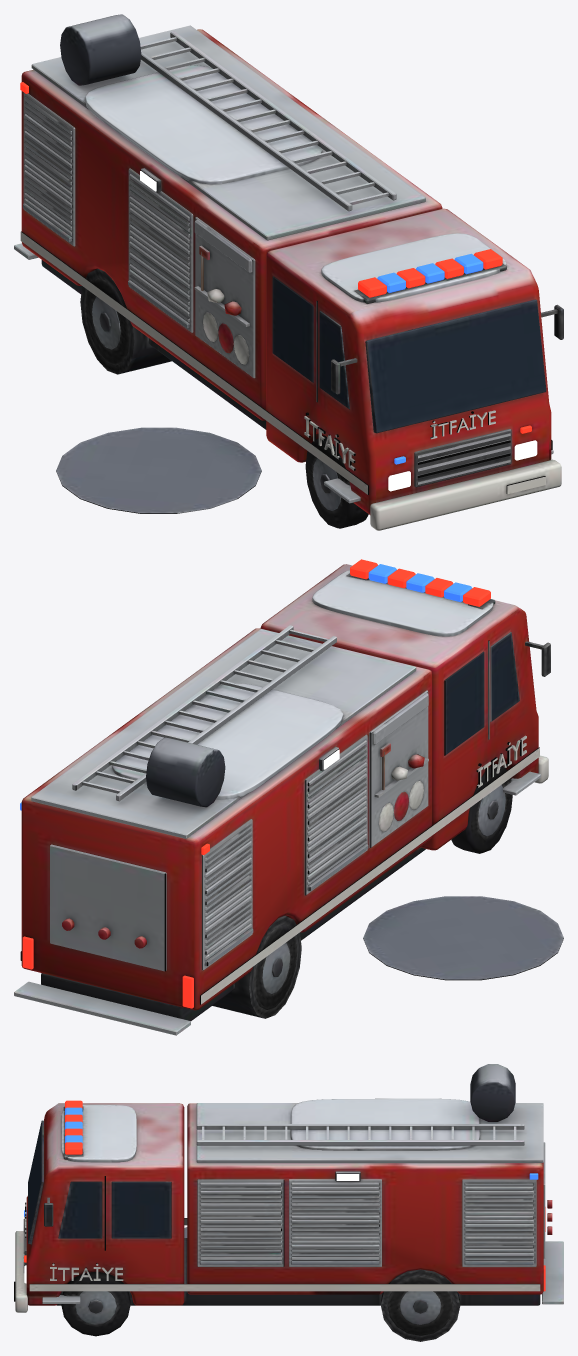
Rendered from fire_truck.glb.
3 views of the same model, one above another, from view 1: azimuth 30°, elevation 25°; view 2: azimuth 150°, elevation 25°; view 3: azimuth 270°, elevation 25° (orthographic). The views are drawn at different scales.
Parts seen in each view (by area): view 1: fire_truck, fire_truck_glow; view 2: fire_truck, fire_truck_glow; view 3: fire_truck, fire_truck_glow.
Boxes of the visible parts, left/top/right/bottom form: fire_truck: left=14, top=14, right=563, bottom=530; fire_truck_glow: left=20, top=82, right=537, bottom=491; fire_truck: left=14, top=564, right=563, bottom=1035; fire_truck_glow: left=20, top=559, right=490, bottom=1008; fire_truck: left=14, top=1064, right=563, bottom=1341; fire_truck_glow: left=24, top=1100, right=545, bottom=1291.
Bounding box in the file's own units: 4.84 × 3.88 × 8.73.
Materials: 7 (1 with a texture image).
